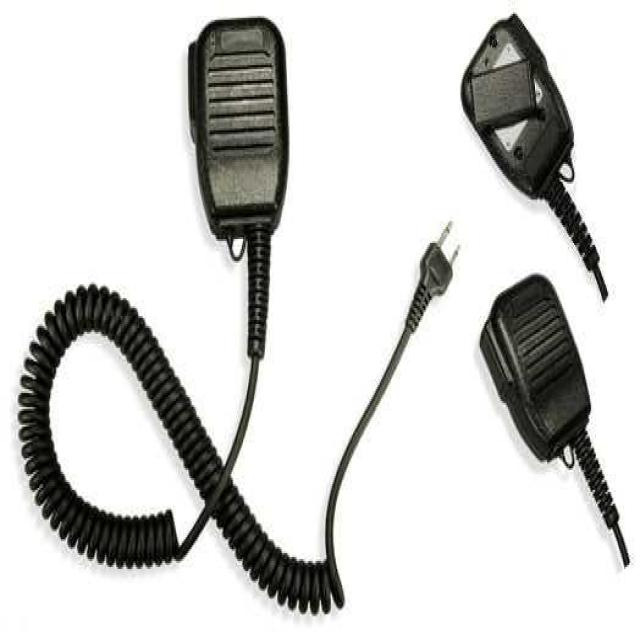microphone: (460, 6, 609, 308), (188, 14, 289, 252), (480, 276, 591, 467)
